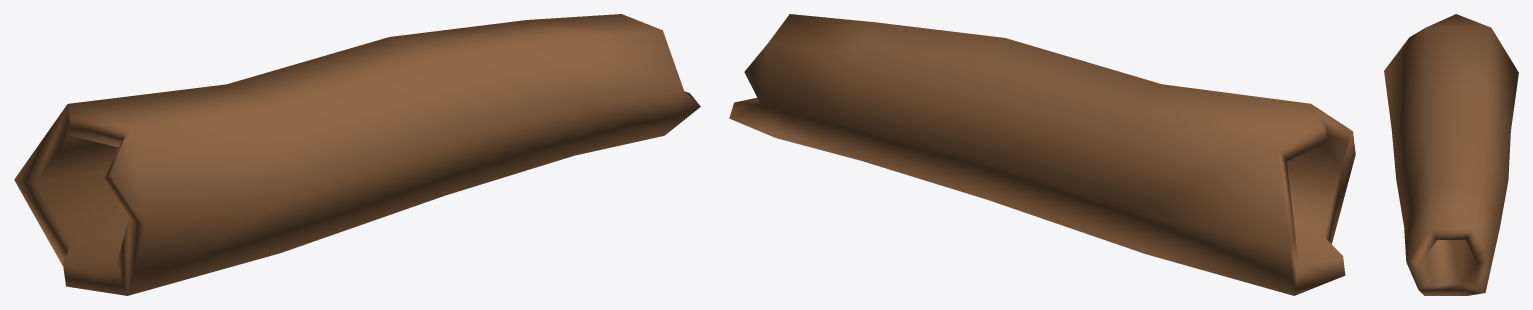
The model's file is logPlain.glb.
3 renders of one model, left to right at view 1: azimuth 30°, elevation 25°; view 2: azimuth 150°, elevation 25°; view 3: azimuth 270°, elevation 25°, orthographic. The views are drawn at different scales.
Visible parts, largest first — view 1: logPlain; view 2: logPlain; view 3: logPlain.
Part boxes in pixels (x1,y1,x2,y2): logPlain: [14, 14, 700, 295]; logPlain: [729, 14, 1355, 295]; logPlain: [1384, 14, 1518, 295].
Bounding box in the file's own units: 1.96 × 0.5 × 0.5491.
